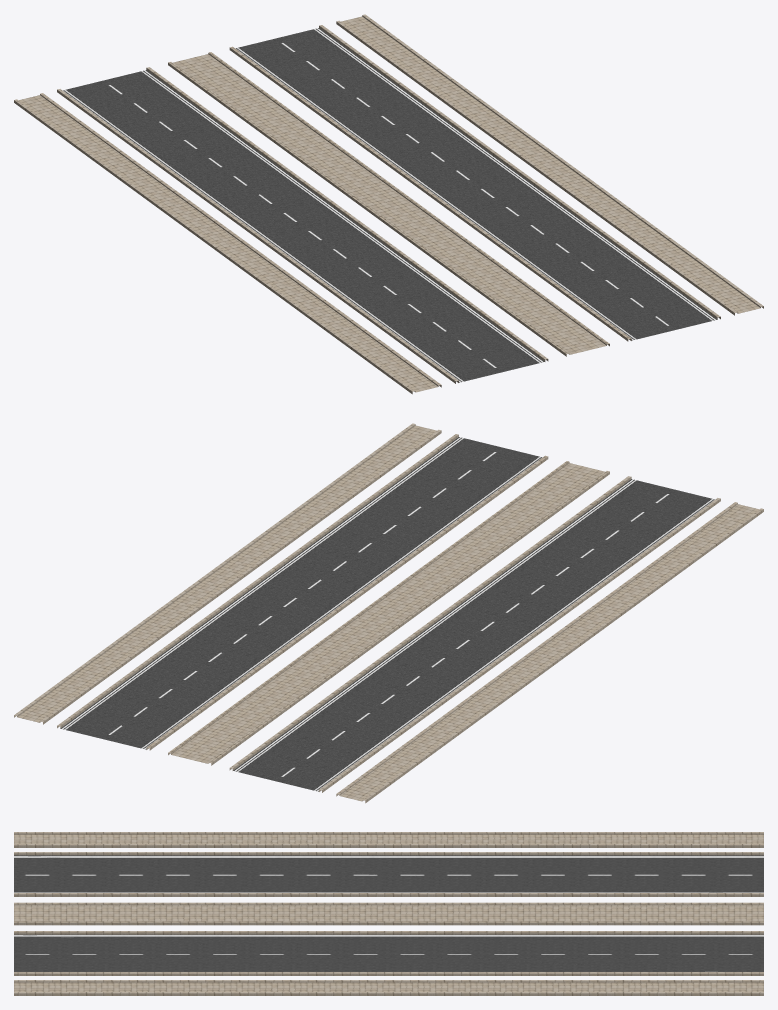
The model's file is Street2Lanes80m.FBX.
The picture shows the model from 3 angles, top to bottom: view 1: azimuth 30°, elevation 25°; view 2: azimuth 150°, elevation 25°; view 3: azimuth 270°, elevation 25°; orthographic projection. The views are drawn at different scales.
Parts seen in each view (by area): view 1: Street2Lanes80m; view 2: Street2Lanes80m; view 3: Street2Lanes80m.
Boxes of the visible parts, x1,y1,x2,y2 form: Street2Lanes80m: [14, 14, 763, 394]; Street2Lanes80m: [14, 423, 763, 803]; Street2Lanes80m: [14, 832, 763, 995].
Size of the model in its own units: 40.7 by 0.3 by 80.
2 materials, 2 textured.
